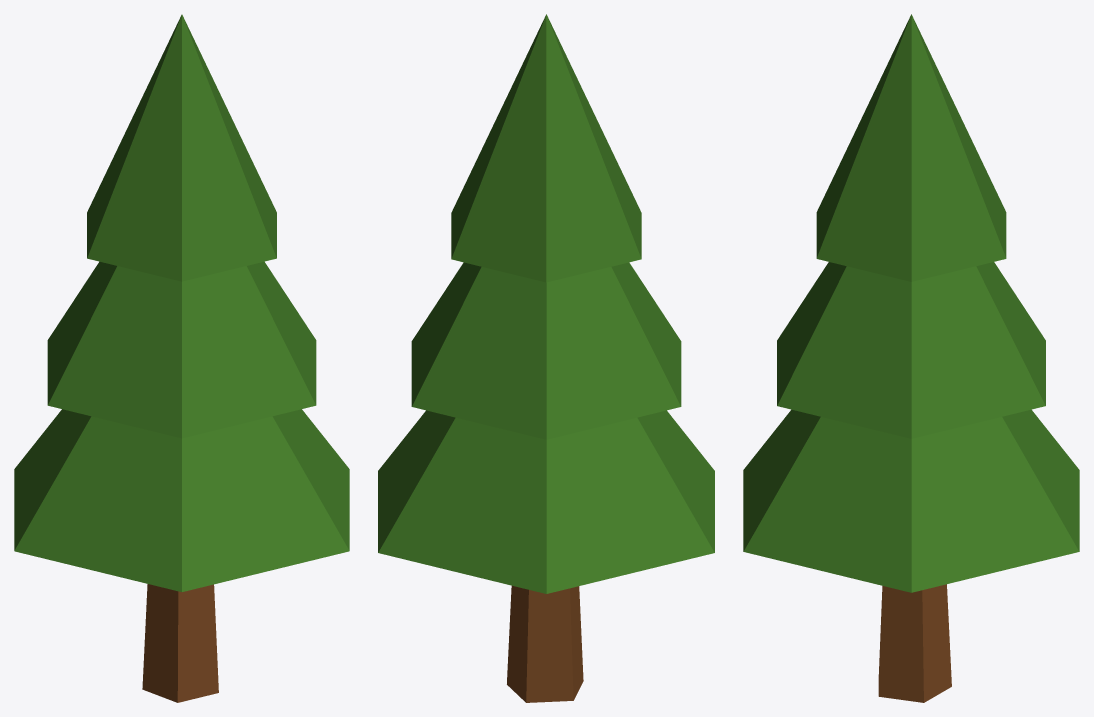
Rendered from forest_tree.obj.
The picture shows the model from 3 angles, left to right: view 1: azimuth 30°, elevation 25°; view 2: azimuth 150°, elevation 25°; view 3: azimuth 270°, elevation 25°; orthographic projection.
Bounding box in the file's own units: 2.3 × 4.4 × 1.99.
Materials: 1 (1 with a texture image).
